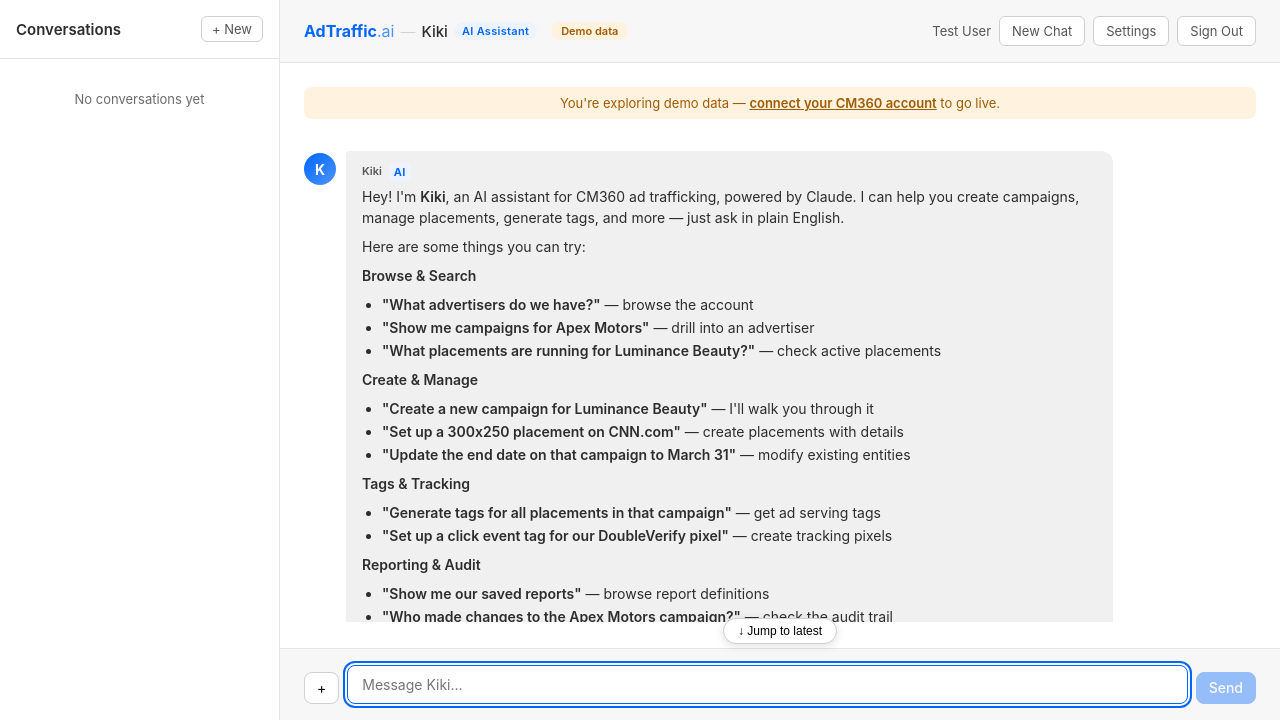
Streaming ergonomics › keeps the composer enabled while a response is streaming
This screenshot has width=1280, height=720.
In the text box with placeholder "Message Kiki...": {"x": 768, "y": 684} x1=347 y1=665 x2=1188 y2=704, type "Hello"
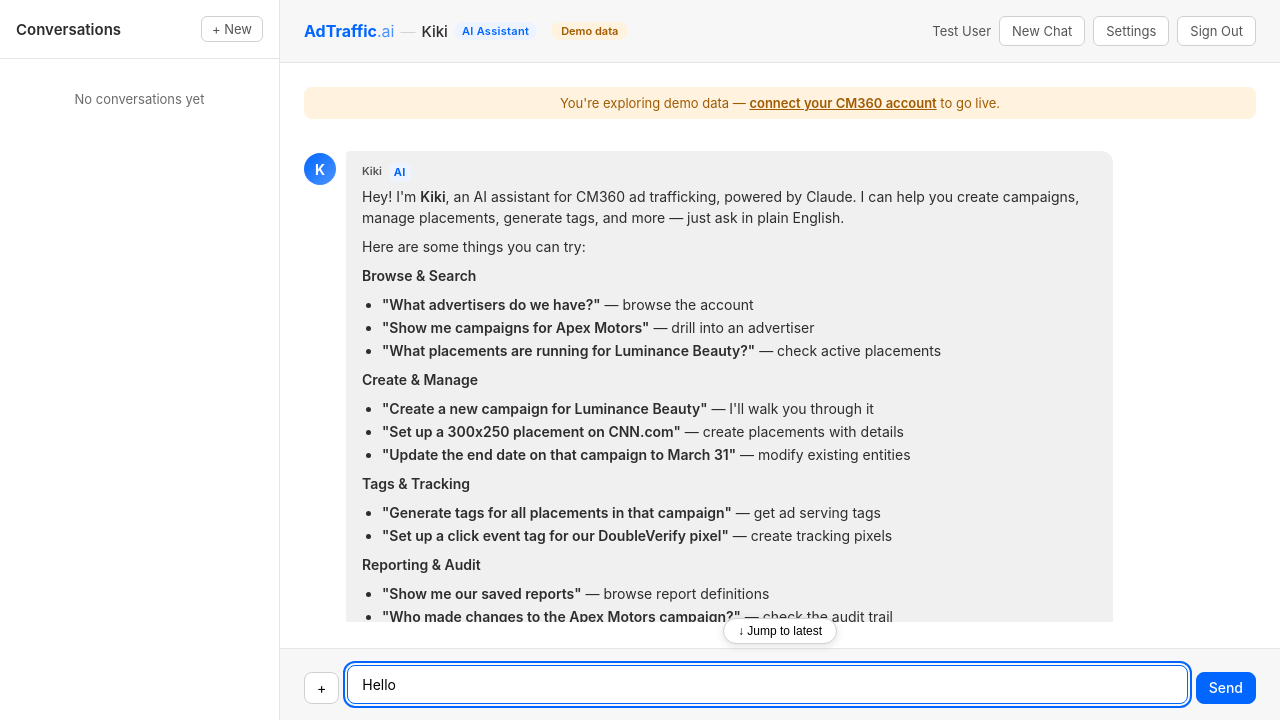
Click the button "Send": {"x": 1226, "y": 688} x1=1196 y1=672 x2=1256 y2=704
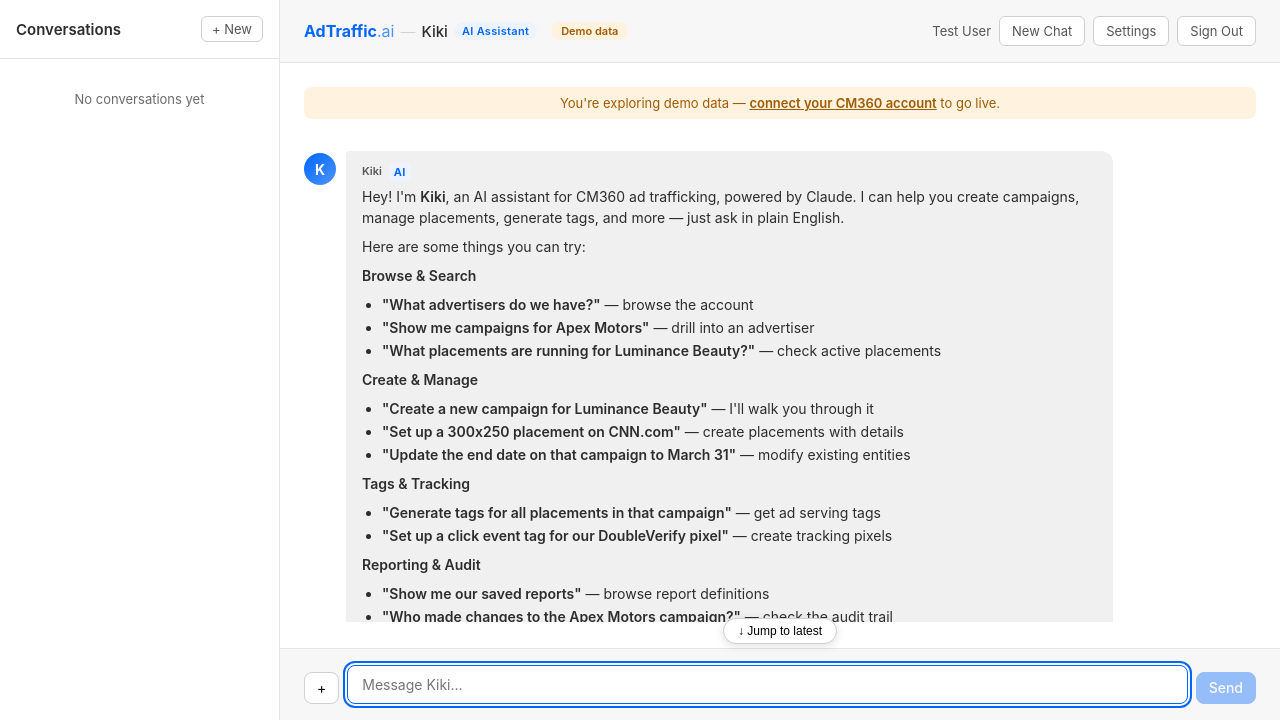
expect the text box with placeholder "Message Kiki..." is enabled: met, box x1=347 y1=665 x2=1188 y2=704
expect the button "Send" is disabled: met, box x1=1196 y1=672 x2=1256 y2=704
